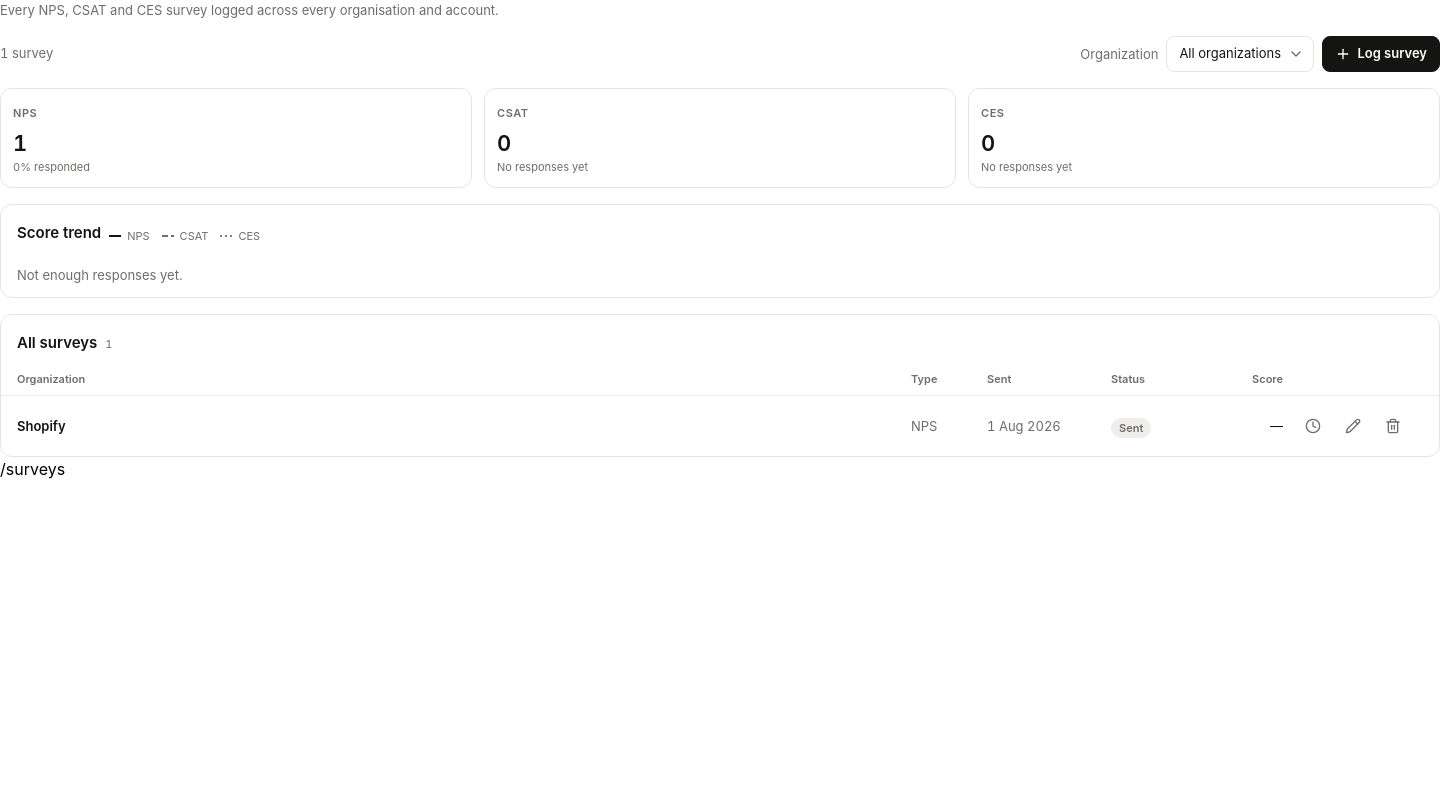
Scenario: SurveysPage (/surveys) › deleting a survey via the Actions column's confirm dialog DELETEs it and removes the row
This screenshot has width=1440, height=810.
Expected: the link "Shopify" is shown, left=17, top=418, right=66, bottom=434
Click the button named "Delete: Shopify" at (1393, 426), box left=1375, top=408, right=1411, bottom=444
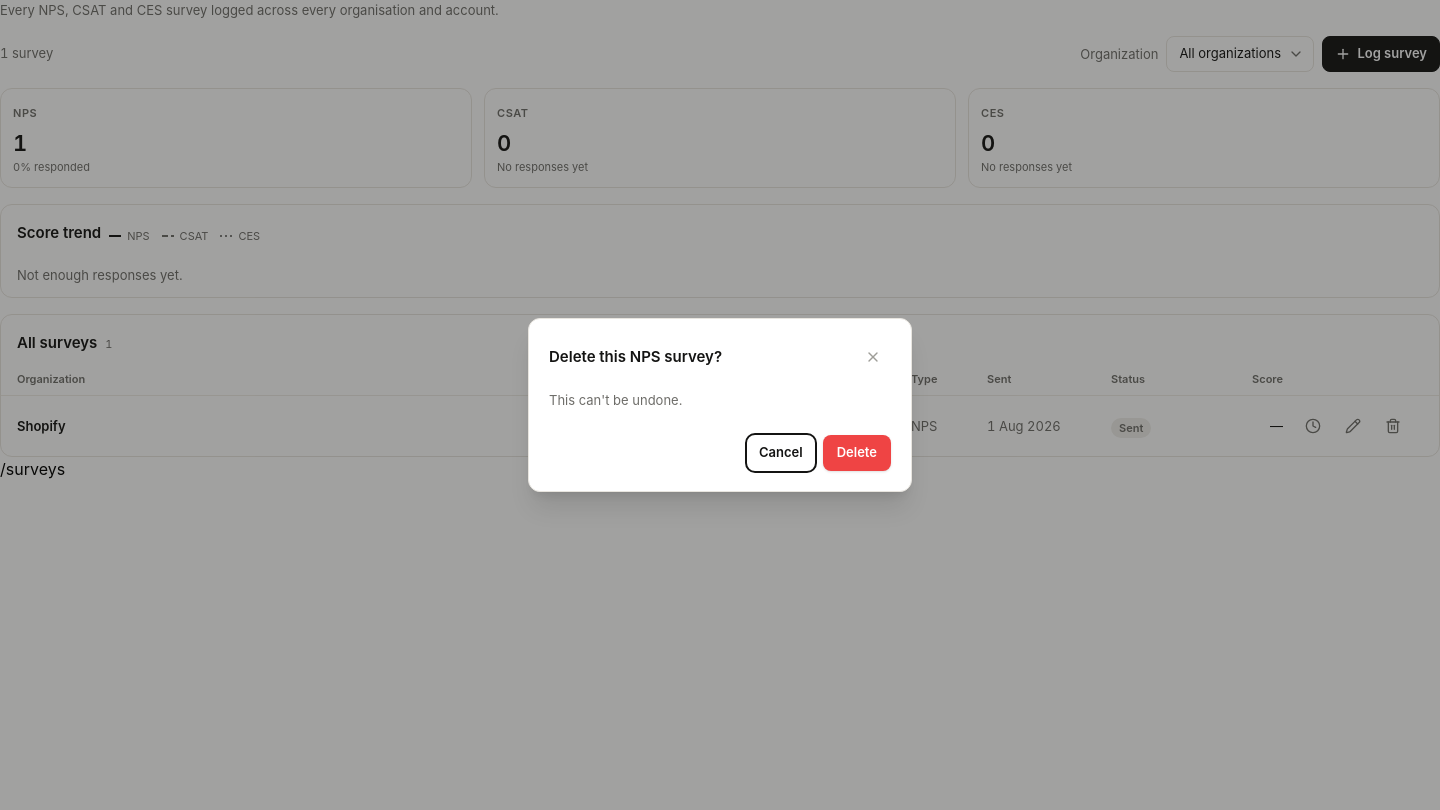
Click the button "Delete" at (857, 453), box left=823, top=435, right=891, bottom=471
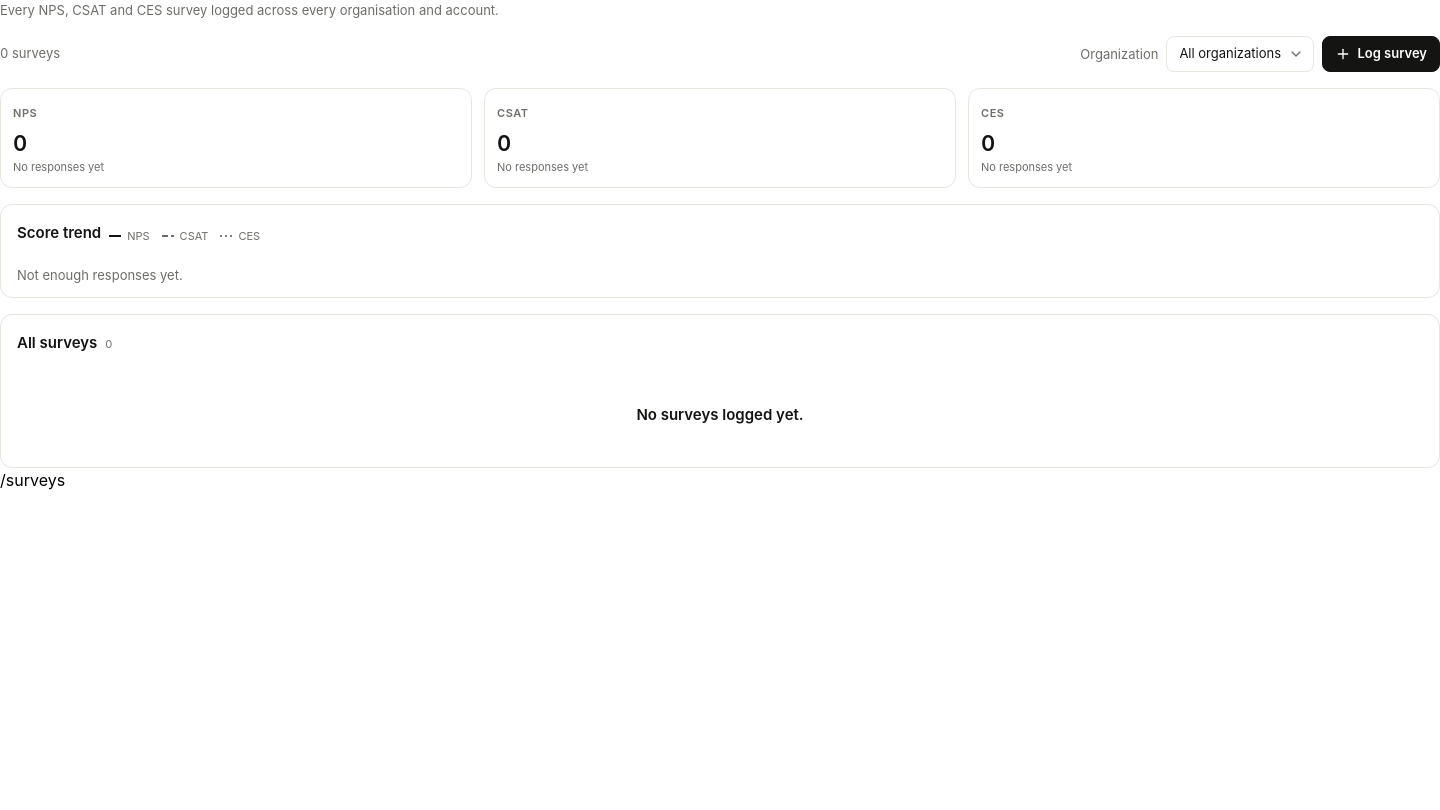
Expected: the link "Shopify" is gone
Expected: the text "No surveys logged yet." is shown, left=636, top=403, right=804, bottom=427
